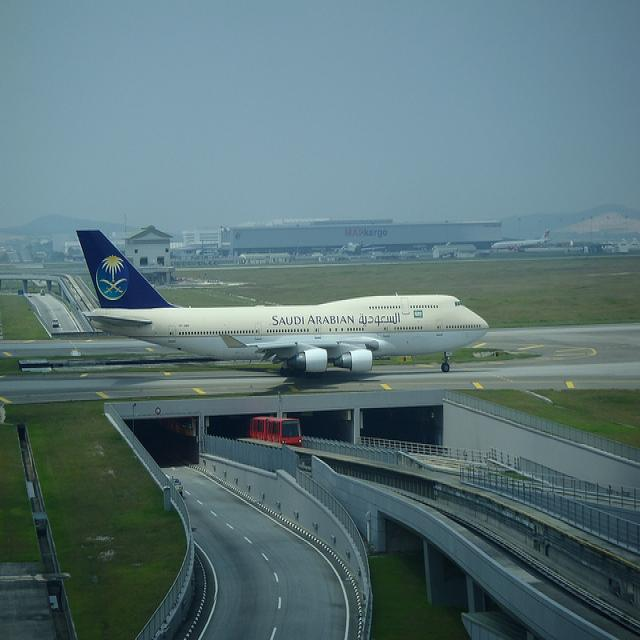Vehicle: (248, 417, 302, 447), (175, 485, 184, 495), (40, 287, 46, 297), (51, 320, 59, 327)
